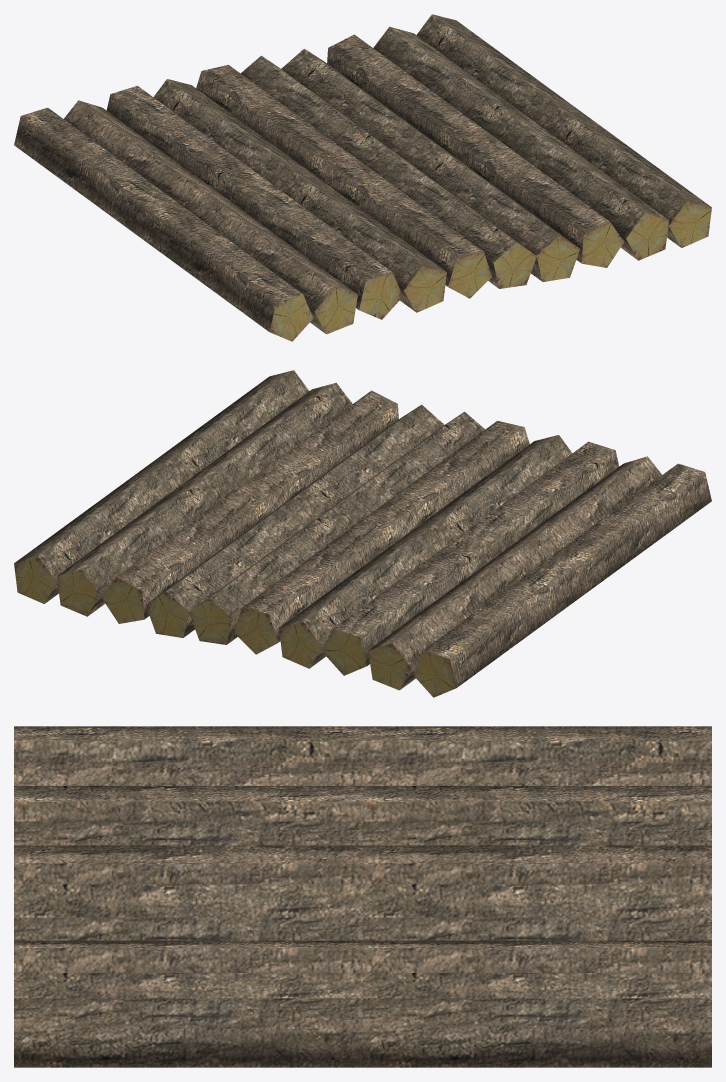
Rendered from construction_wood_roof_square_mesh.fbx.
3 renders of one model, top to bottom at view 1: azimuth 30°, elevation 25°; view 2: azimuth 150°, elevation 25°; view 3: azimuth 270°, elevation 25°, orthographic. The views are drawn at different scales.
Visible parts, largest first — view 1: construction_wood_roof_square_mesh; view 2: construction_wood_roof_square_mesh; view 3: construction_wood_roof_square_mesh.
Boxes of the visible parts, box(x1,y1,x2,y2) form: construction_wood_roof_square_mesh: box(14, 14, 711, 341); construction_wood_roof_square_mesh: box(14, 370, 711, 697); construction_wood_roof_square_mesh: box(14, 726, 711, 1067).
Size of the model in its own units: 300 by 31.33 by 300.
